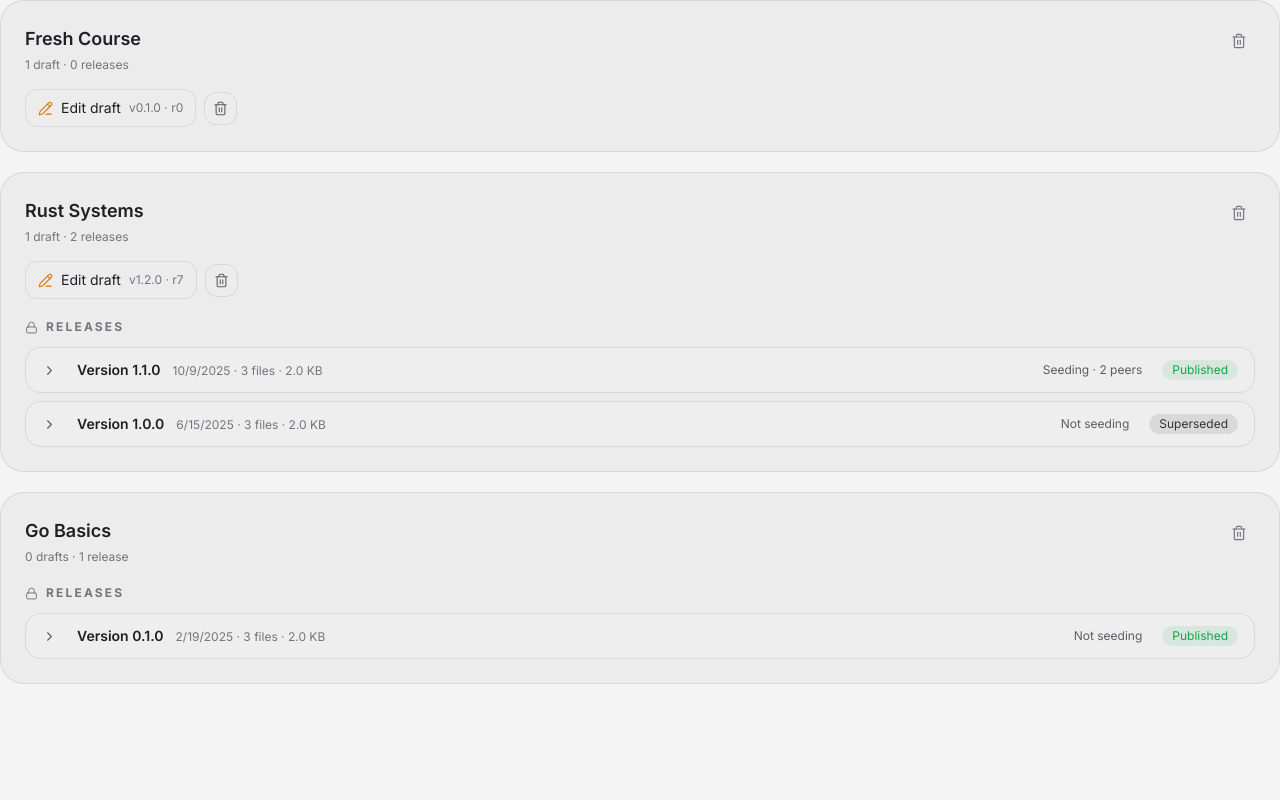
Test case: course management › deletes a draft only after confirmation, and keeps its releases
Click the button named "Delete draft v1.2.0" at (221,280), box left=205, top=264, right=238, bottom=296
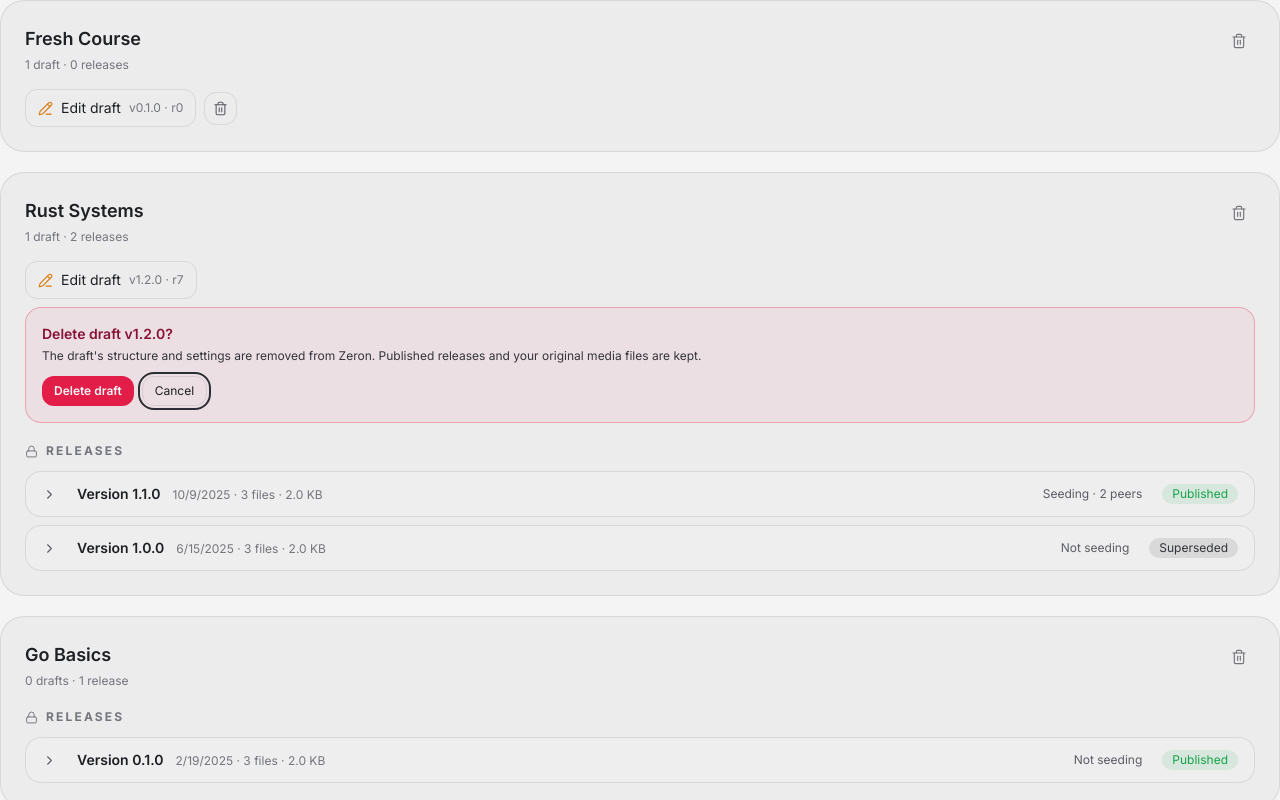
Expected: the dialog "Delete draft v1.2.0?" shows "Published releases and your original media files are kept.", left=42, top=348, right=701, bottom=363
Expected: the button "Cancel" is shown
Click the button "Cancel" at (174,391), box left=142, top=376, right=207, bottom=406
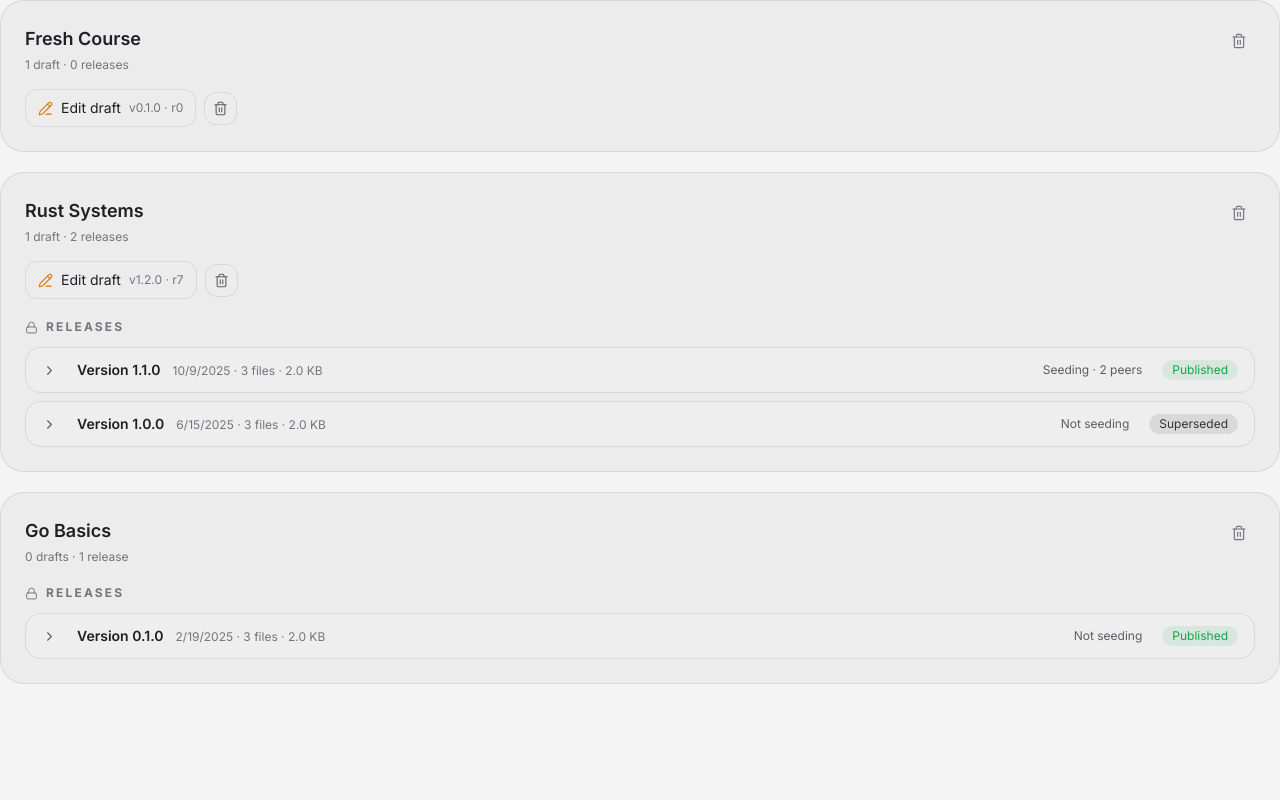
Expected: the dialog is gone
Click the button named "Delete draft v1.2.0" at (221,280), box left=205, top=264, right=238, bottom=296
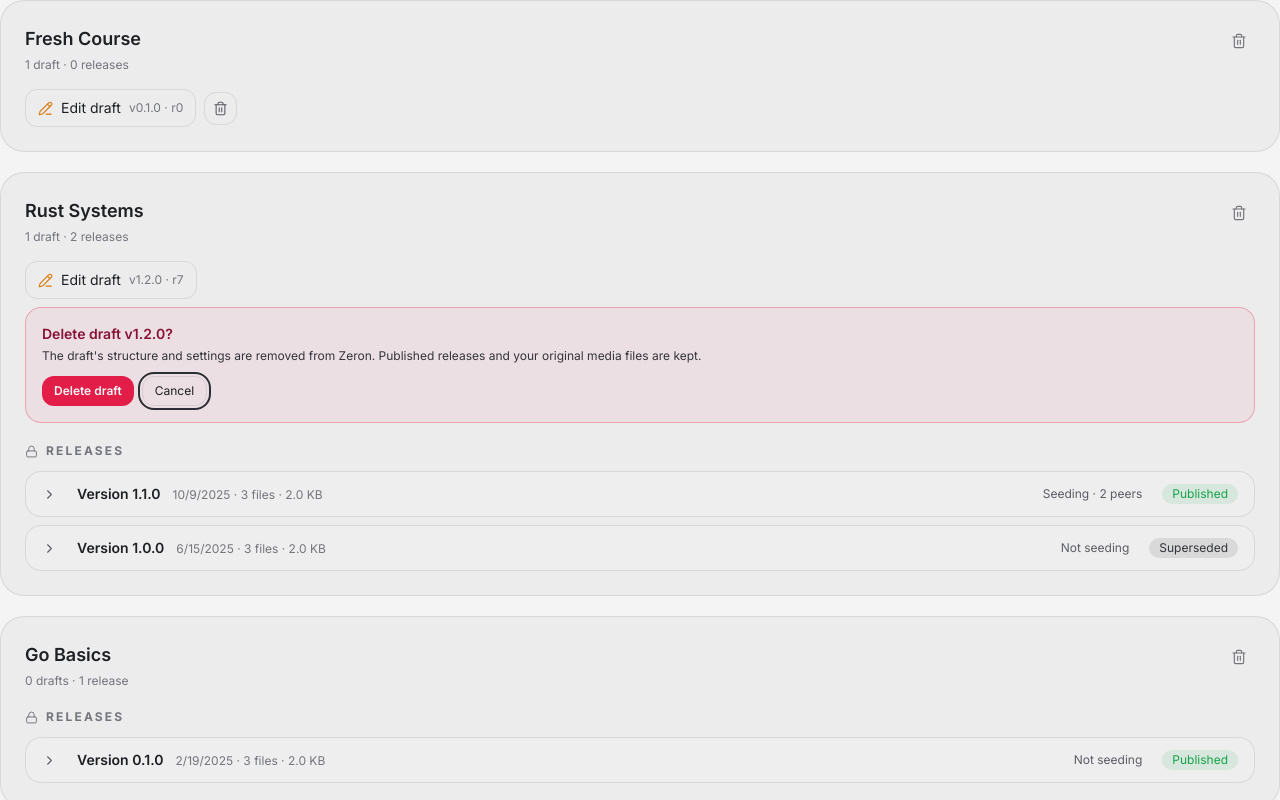
Click the button "Delete draft" at (88,391), box left=42, top=376, right=134, bottom=406
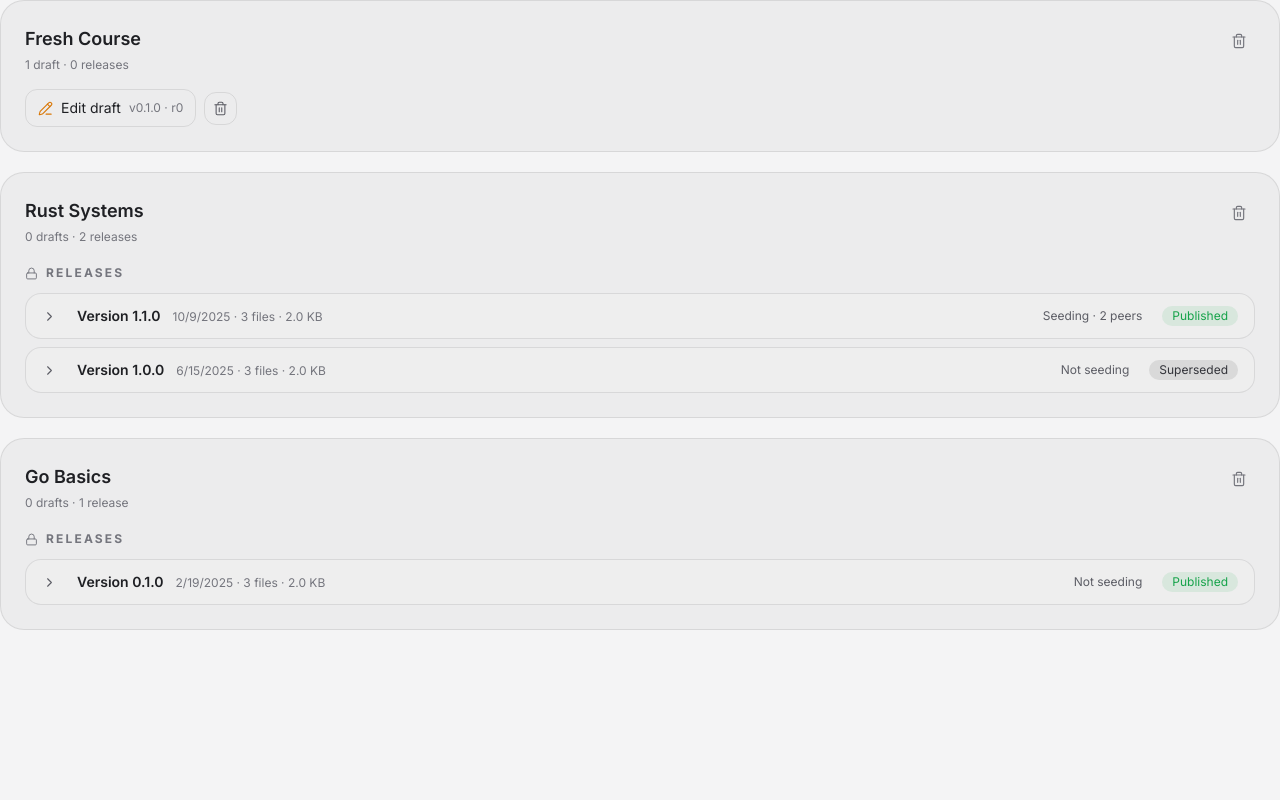
Expected: the list item "Rust Systems" shows "0 drafts · 2 releases", left=0, top=172, right=1279, bottom=418
